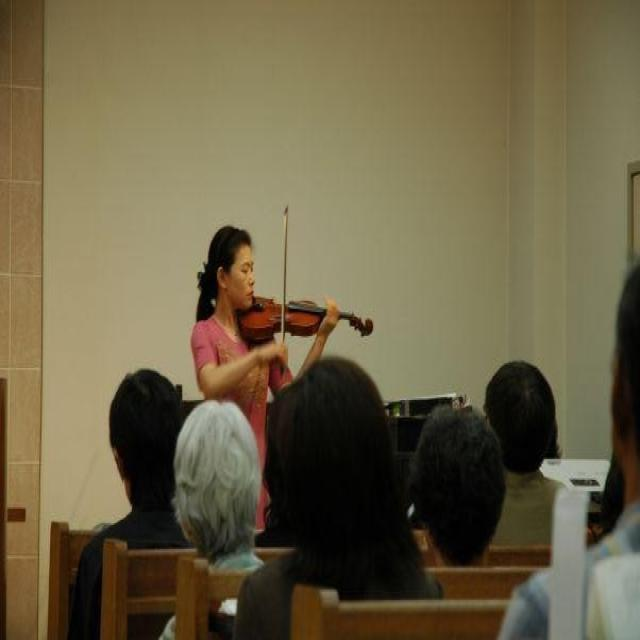violin: (236, 290, 378, 346)
